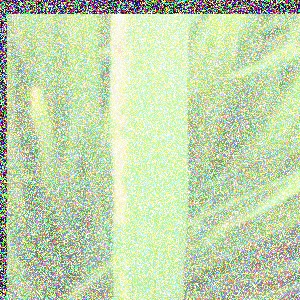Leaf_Blast: (111, 15, 192, 300)
